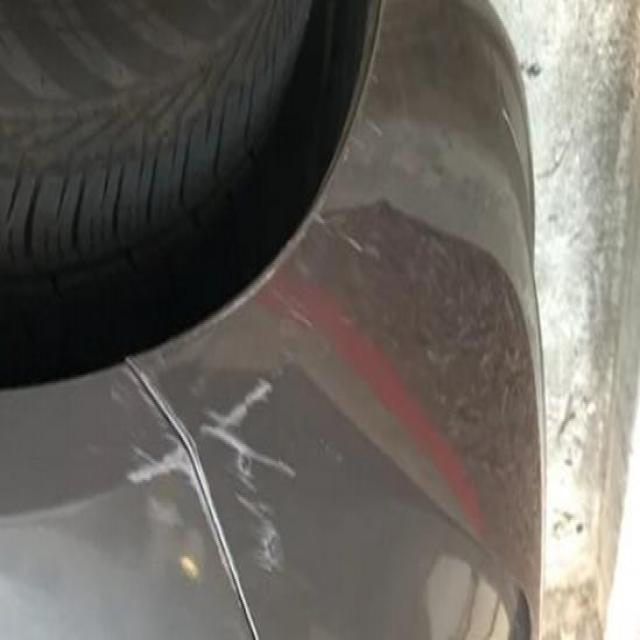scratch: (130, 348, 304, 606)
